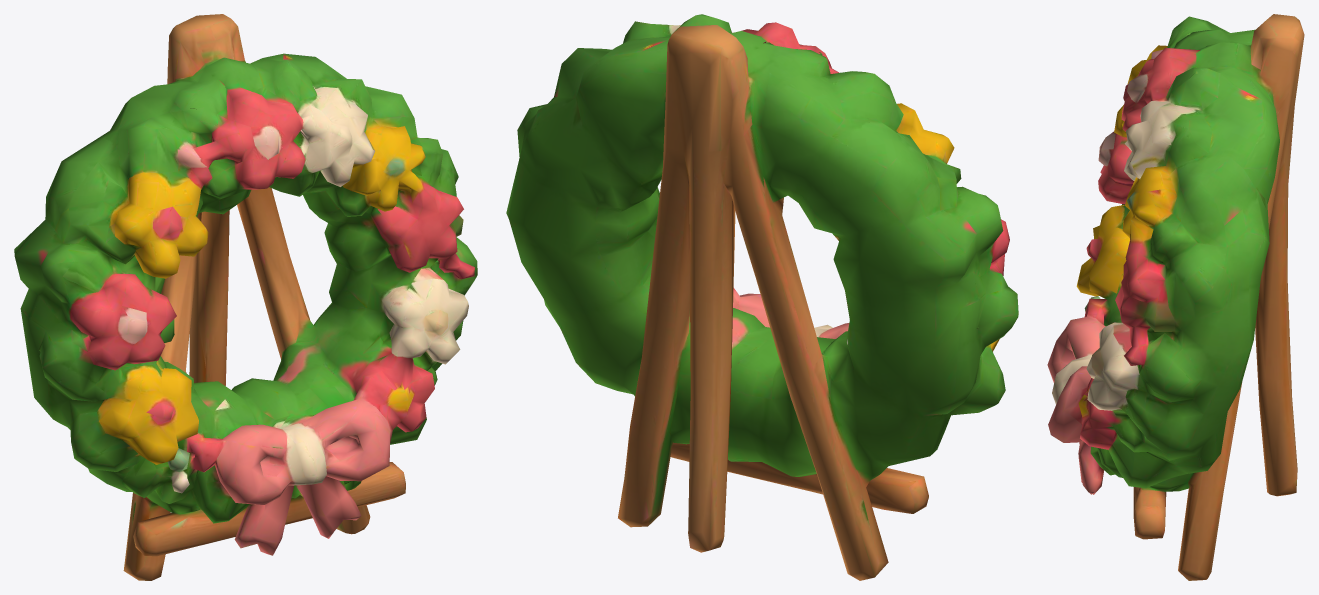
3 views of the same model, side by side, from view 1: azimuth 30°, elevation 25°; view 2: azimuth 150°, elevation 25°; view 3: azimuth 270°, elevation 25° (orthographic). The views are drawn at different scales.
Parts seen in each view (by area): view 1: wreath; view 2: wreath; view 3: wreath.
Boxes of the visible parts, x1,y1,x2,y2 form: wreath: (14,14,477,580); wreath: (506,14,1018,580); wreath: (1047,14,1304,580).
Size of the model in its own units: 1.09 by 1.2 by 0.5519.
1 material, 1 textured.
